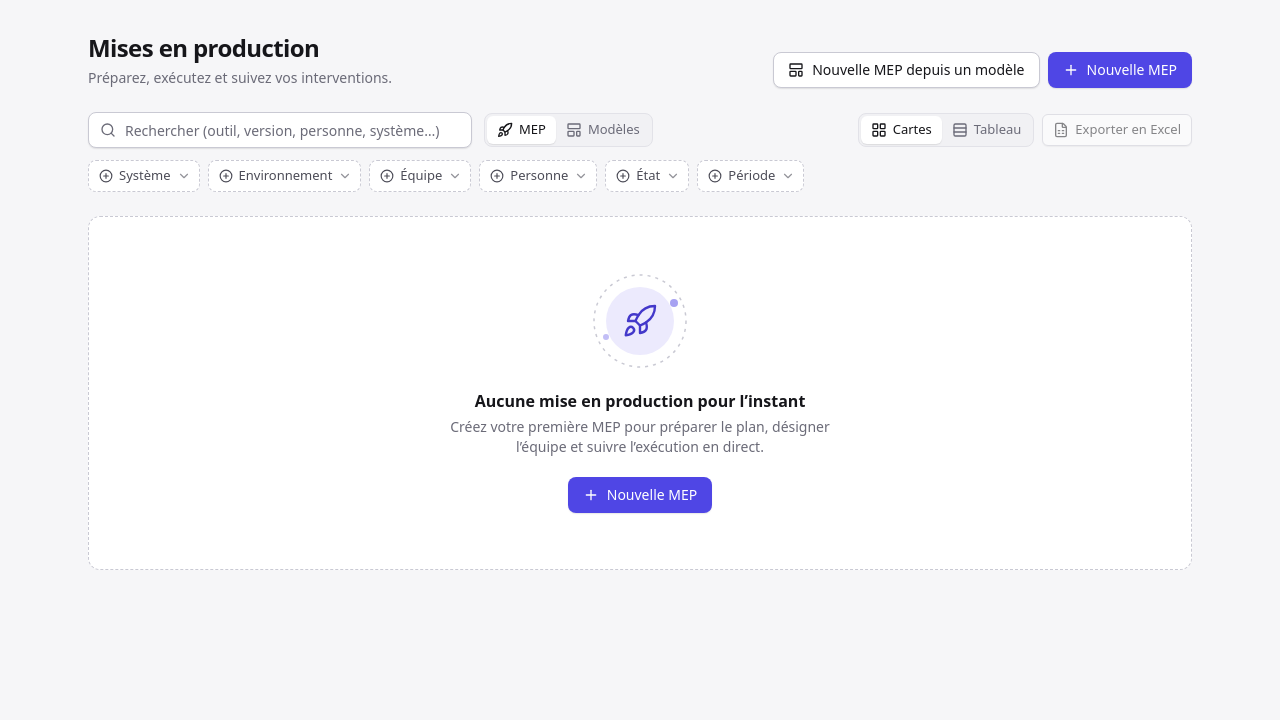
Test: ListeMepPage › ne réutilise pas un bouton de l’en-tête d’une vue à l’autre (pas de transition de couleur)
Click the radio button labelled "Modèles" at (603, 130), box [556,116,650,144]
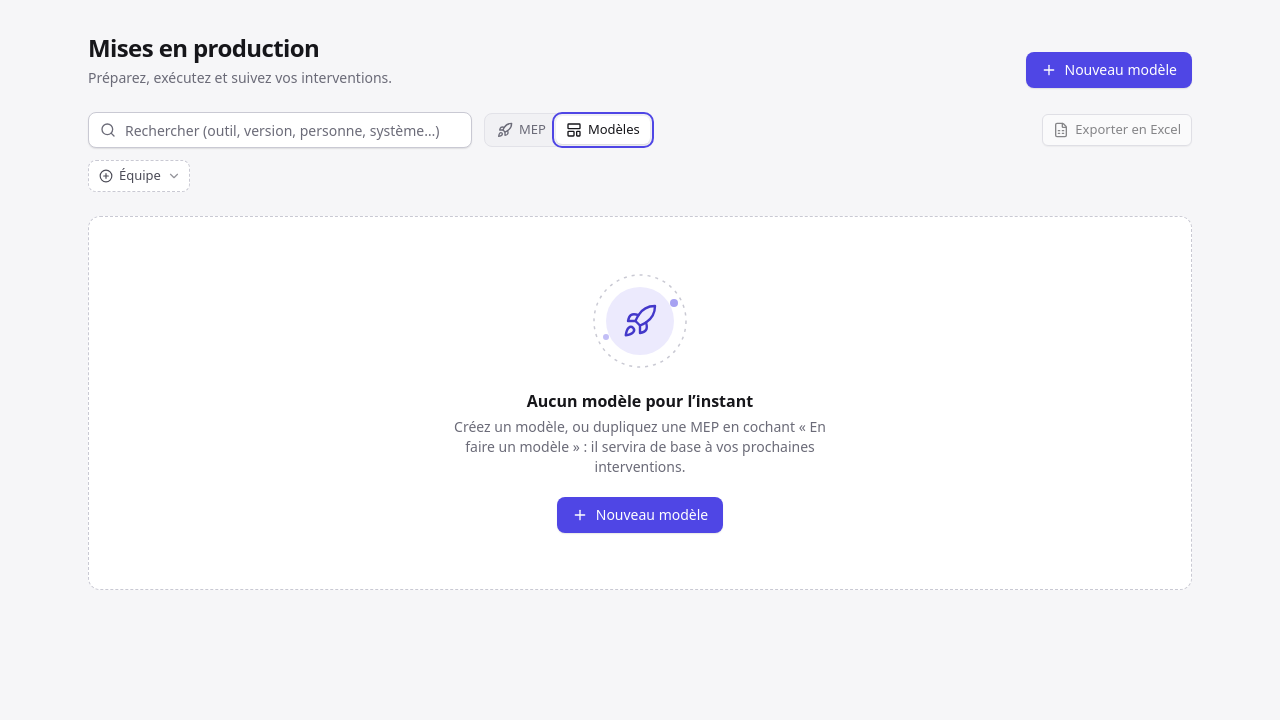
Expected: the button "Nouvelle MEP depuis un modèle" is gone
